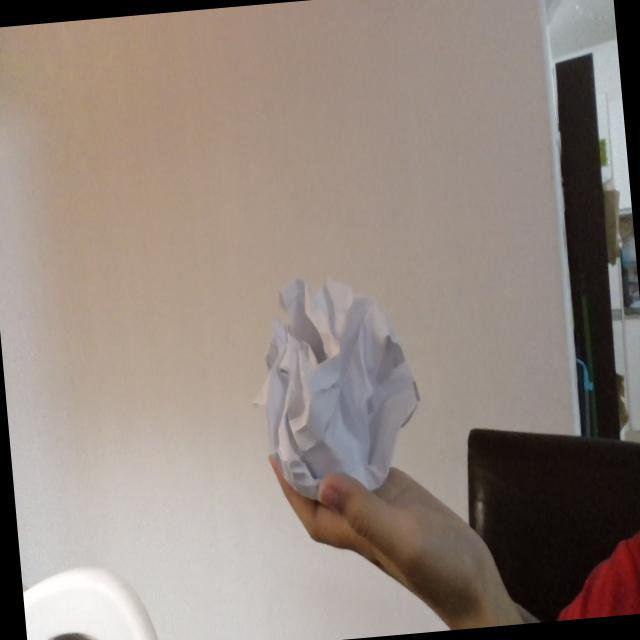crumpled_paper: (241, 252, 433, 512)
